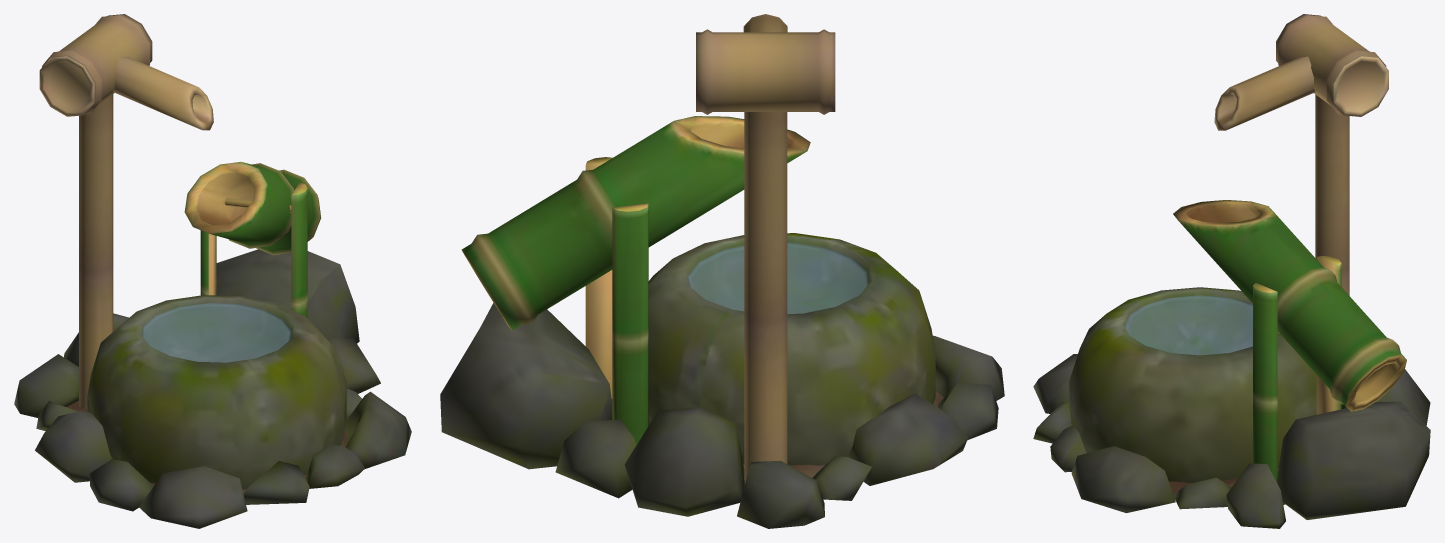
File: shishiodoshi.glb
The picture shows the model from 3 angles, left to right: view 1: azimuth 30°, elevation 25°; view 2: azimuth 150°, elevation 25°; view 3: azimuth 270°, elevation 25°; orthographic projection. The views are drawn at different scales.
Size of the model in its own units: 9.75 by 9.99 by 9.55.
2 materials, 1 textured.
